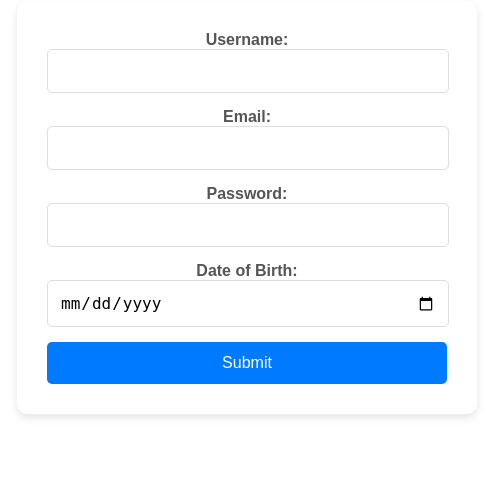
Test: Form validation for empty or invalid data testing › Displays validation messages for empty required fields
Click the button "Submit": coordinates (247, 363) top-left (47, 342), bottom-right (447, 384)
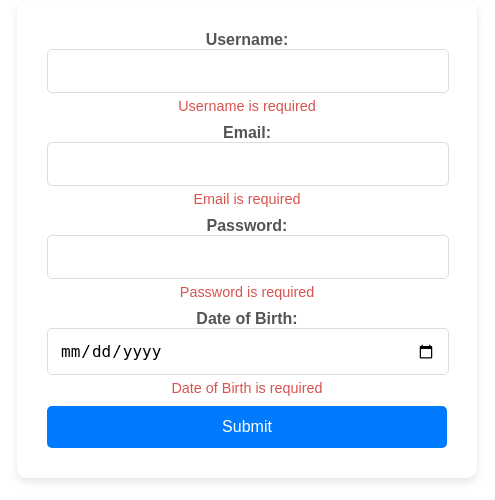
expect the text with class "error" reads "Username is required": met, box top-left (178, 98), bottom-right (316, 114)
expect the text with class "error" reads "Email is required": met, box top-left (193, 191), bottom-right (300, 207)
expect the text with class "error" reads "Password is required": met, box top-left (180, 284), bottom-right (314, 300)
